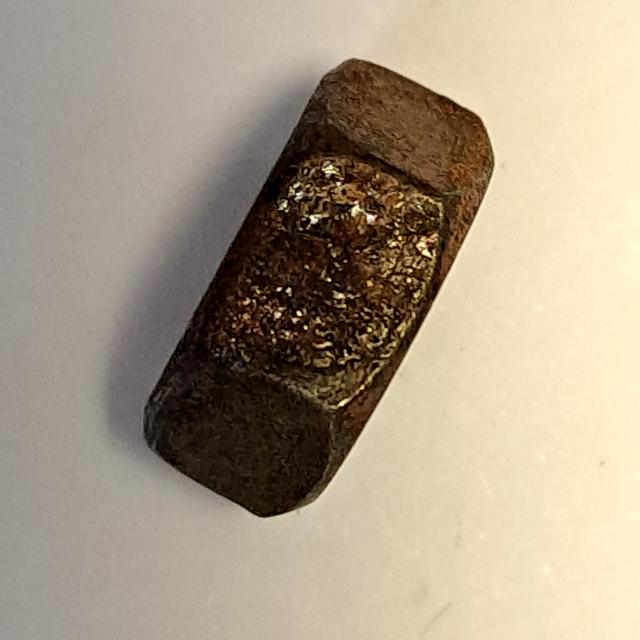Side_Rust: (134, 49, 502, 536)
